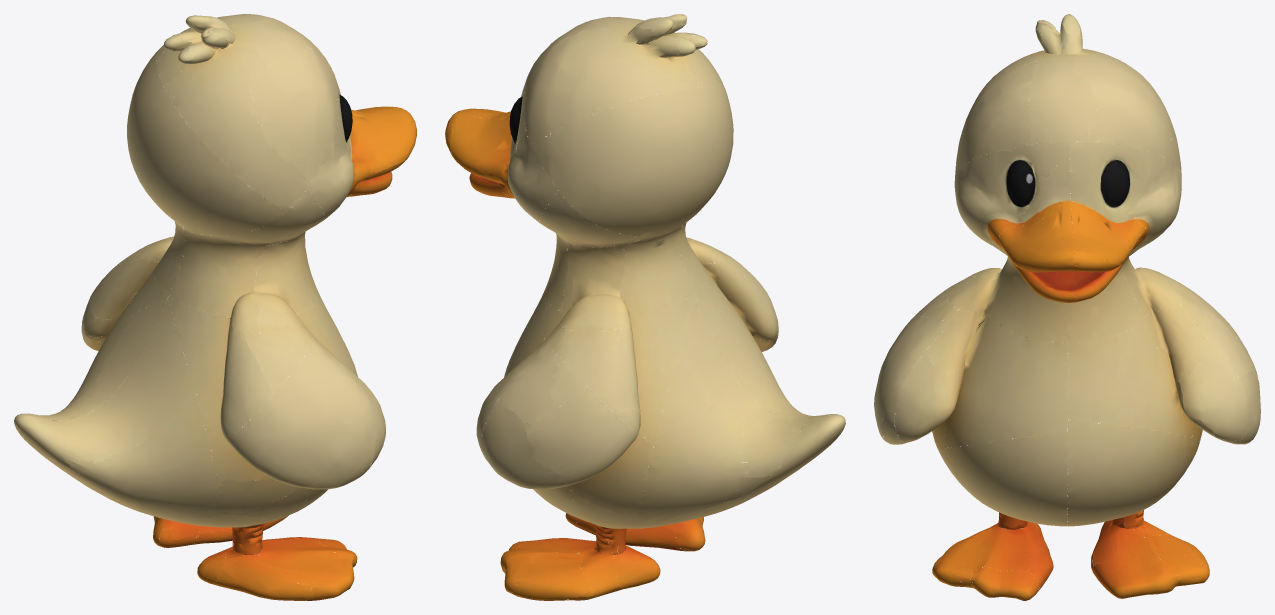
Rendered from duck-compressed.glb.
3 renders of one model, left to right at view 1: azimuth 30°, elevation 25°; view 2: azimuth 150°, elevation 25°; view 3: azimuth 270°, elevation 25°, orthographic. The views are drawn at different scales.
Visible parts, largest first — view 1: tripo_node_577ed641-9dc9-4a08-ab50-6175b46f64b3; view 2: tripo_node_577ed641-9dc9-4a08-ab50-6175b46f64b3; view 3: tripo_node_577ed641-9dc9-4a08-ab50-6175b46f64b3.
Part boxes in pixels (x1,y1,x2,y2): tripo_node_577ed641-9dc9-4a08-ab50-6175b46f64b3: (14,14,416,600); tripo_node_577ed641-9dc9-4a08-ab50-6175b46f64b3: (445,14,845,600); tripo_node_577ed641-9dc9-4a08-ab50-6175b46f64b3: (874,14,1260,600).
Bounding box in the file's own units: 0.7299 × 0.9802 × 0.6478.
1 material, 1 textured.
